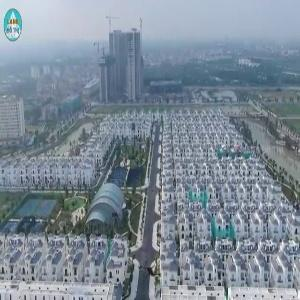drone: (127, 250, 177, 300)
